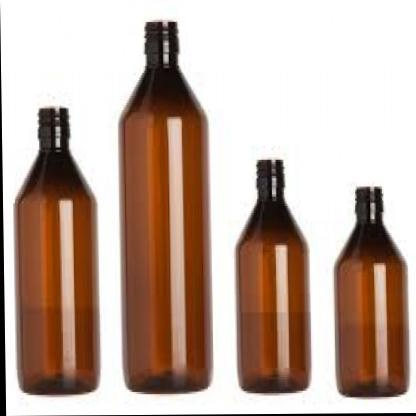trash: (120, 22, 210, 392), (15, 108, 98, 393), (236, 160, 309, 392), (335, 187, 408, 396)
